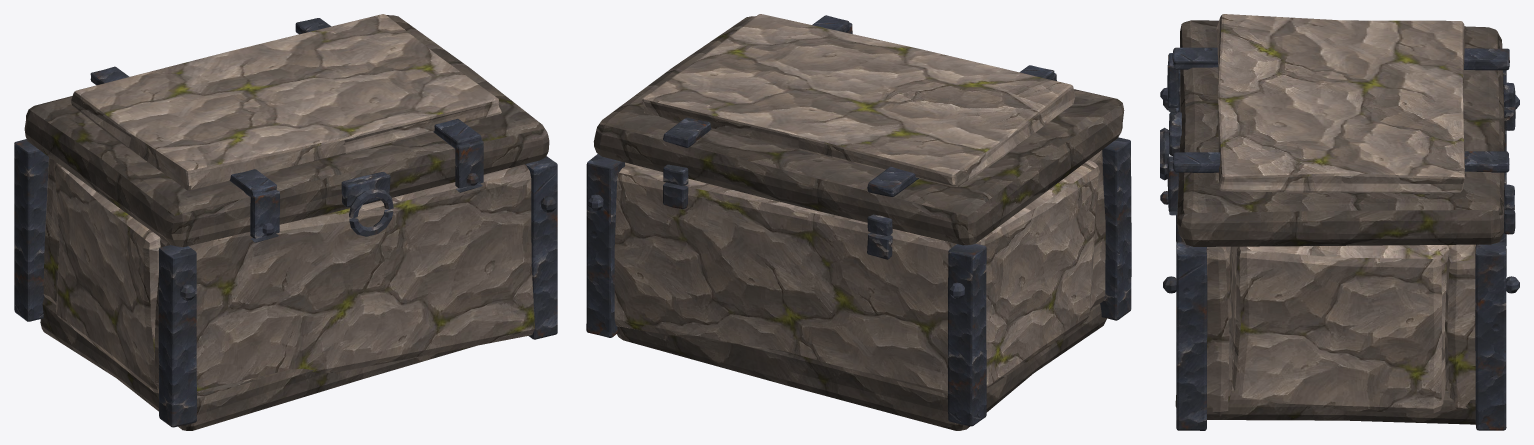
Rendered from chest_stone.glb.
3 renders of one model, left to right at view 1: azimuth 30°, elevation 25°; view 2: azimuth 150°, elevation 25°; view 3: azimuth 270°, elevation 25°, orthographic. The views are drawn at different scales.
Parts seen in each view (by area): view 1: model, lid; view 2: model, lid; view 3: lid, model.
Part boxes in pixels (left/top/right/bottom): model: left=14, top=139, right=557, bottom=430; lid: left=24, top=14, right=549, bottom=247; model: left=586, top=137, right=1131, bottom=430; lid: left=593, top=14, right=1124, bottom=245; lid: left=1160, top=14, right=1515, bottom=246; model: left=1160, top=69, right=1519, bottom=430.
Size of the model in its own units: 1.06 by 0.6581 by 0.8244.
5 materials, 5 textured.
